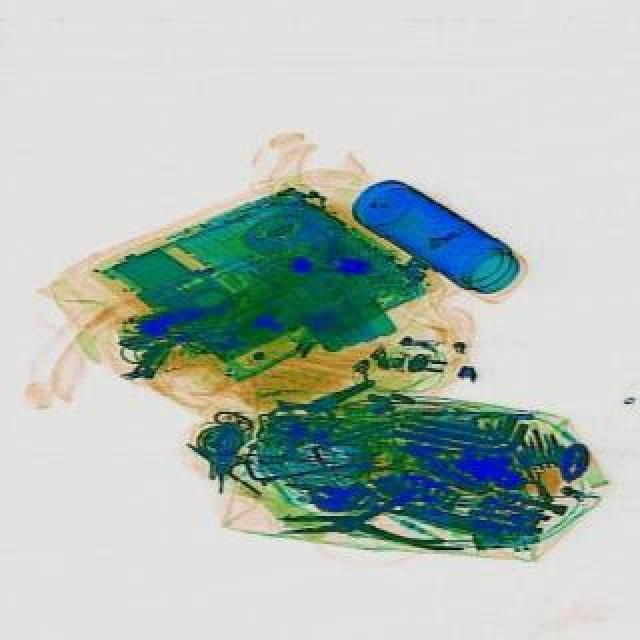wrench: (274, 482, 458, 558)
